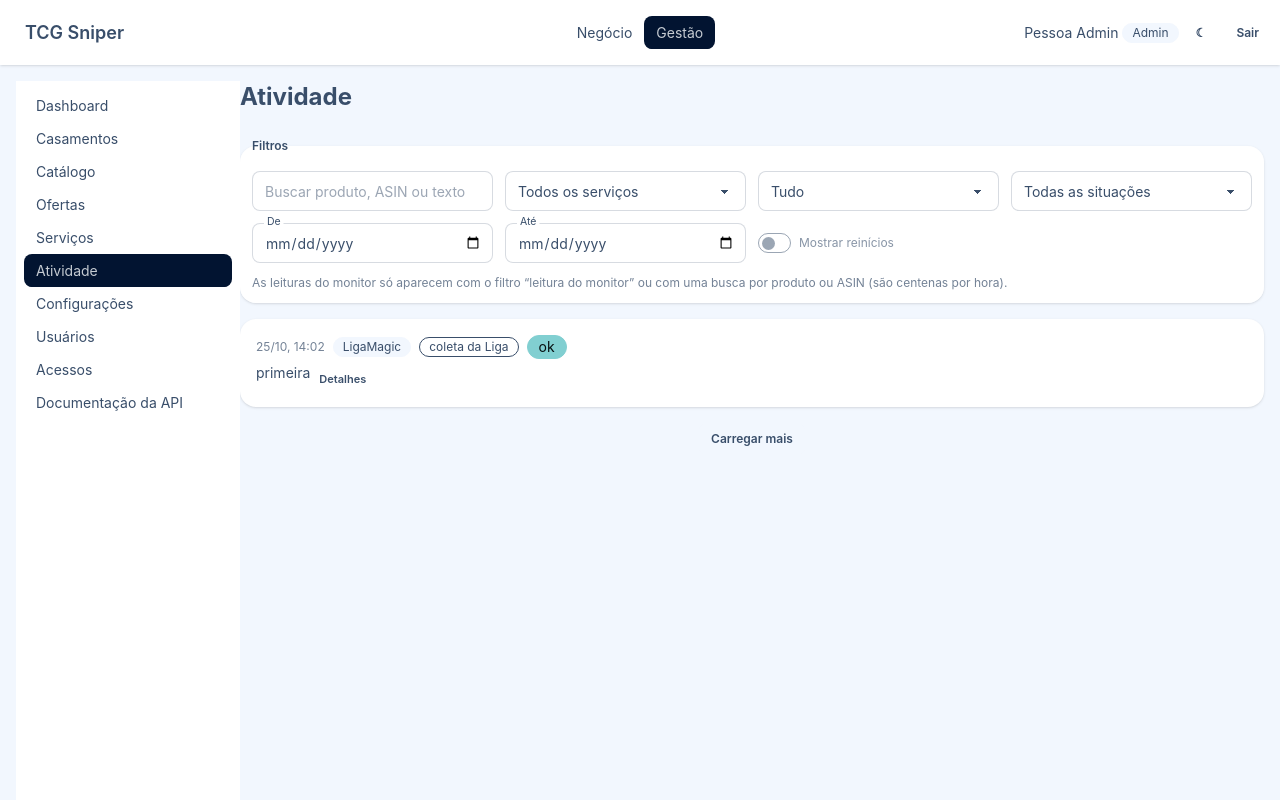
Test: Atividade › resposta atrasada de Carregar mais não entra na lista de outro filtro
This screenshot has width=1280, height=800.
Expected: the text "primeira" is shown, [256,363,310,383]
Click the button "Carregar mais": {"x": 752, "y": 439} [698,423,806,455]
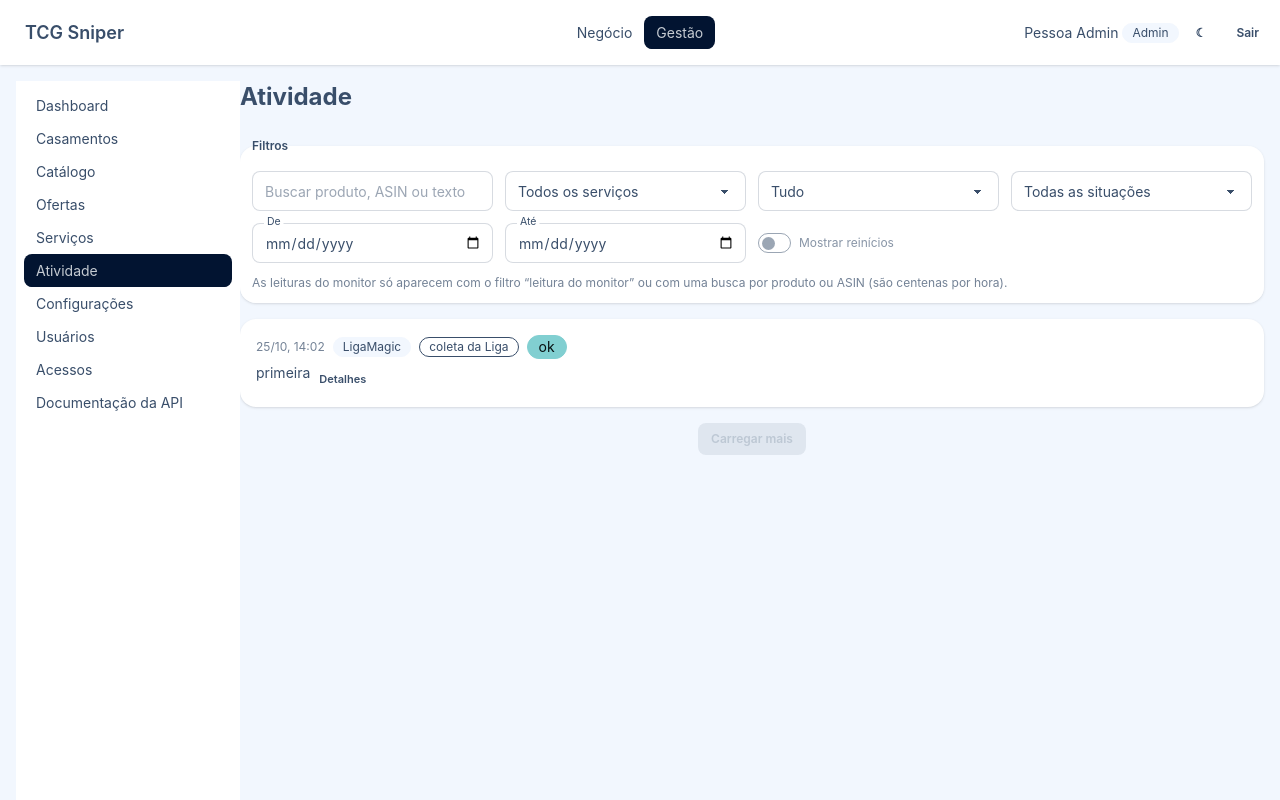
Select "LigaMagic" in the dropdown named "Serviço": {"x": 626, "y": 191} [505,171,746,211]
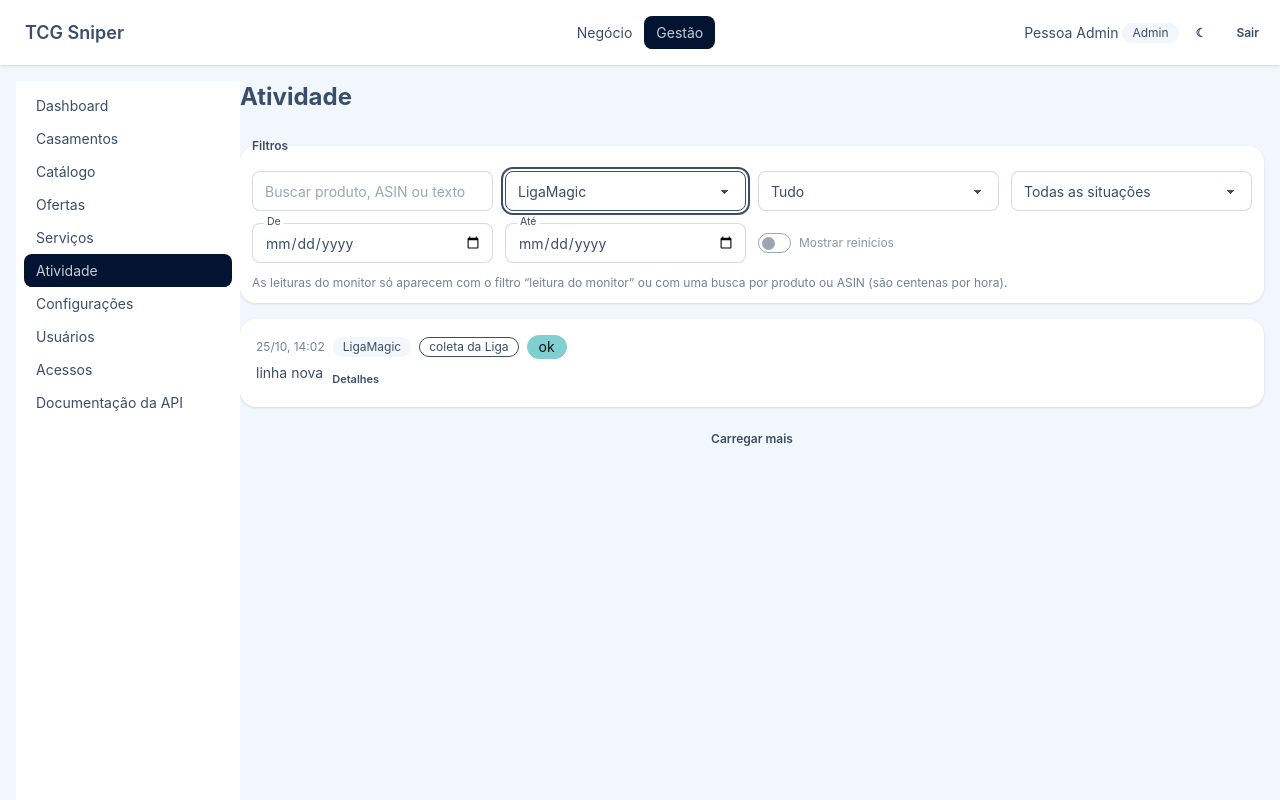
Expected: the text "linha nova" is shown, [256,363,323,383]
Click the button "Carregar mais": {"x": 752, "y": 439} [698,423,806,455]
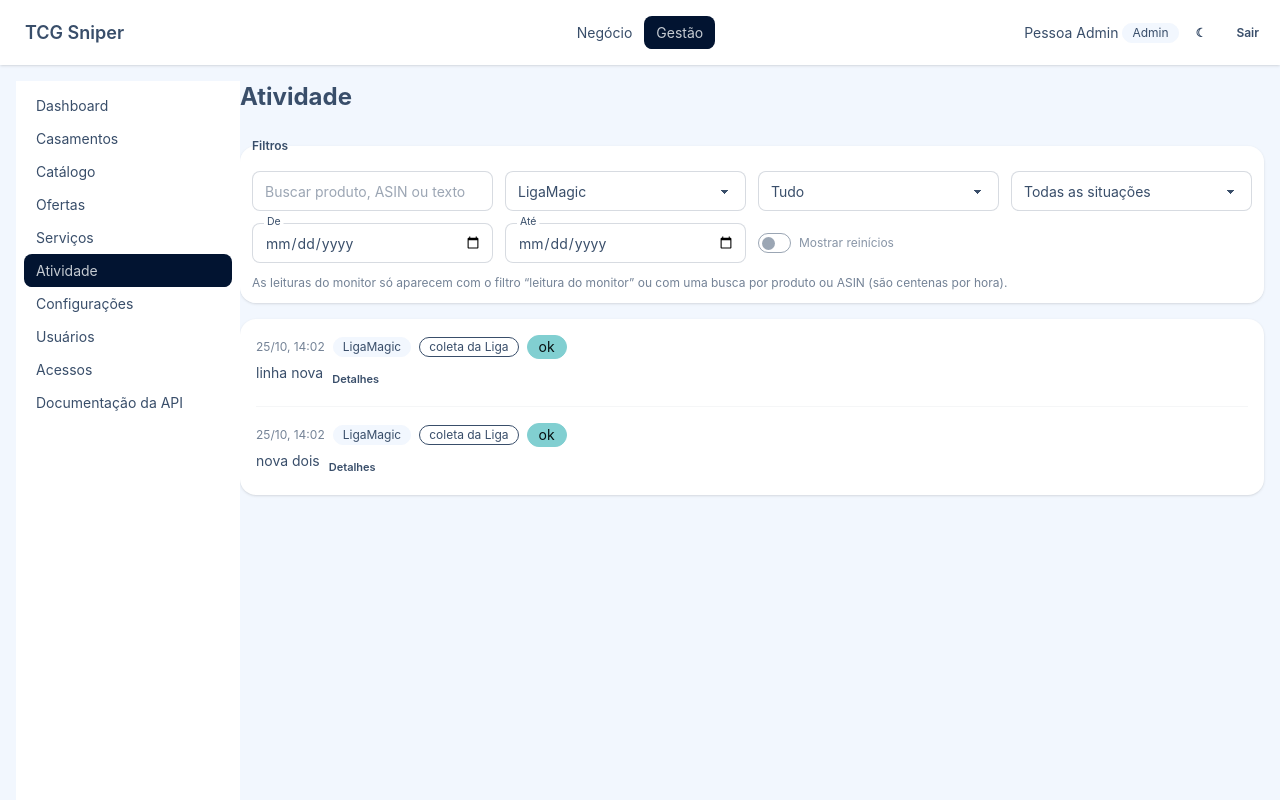
Expected: the text "nova dois" is shown, [256,451,320,471]
